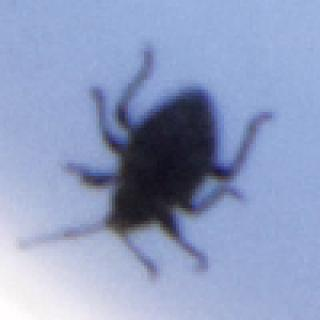bvw: (21, 41, 276, 283)
